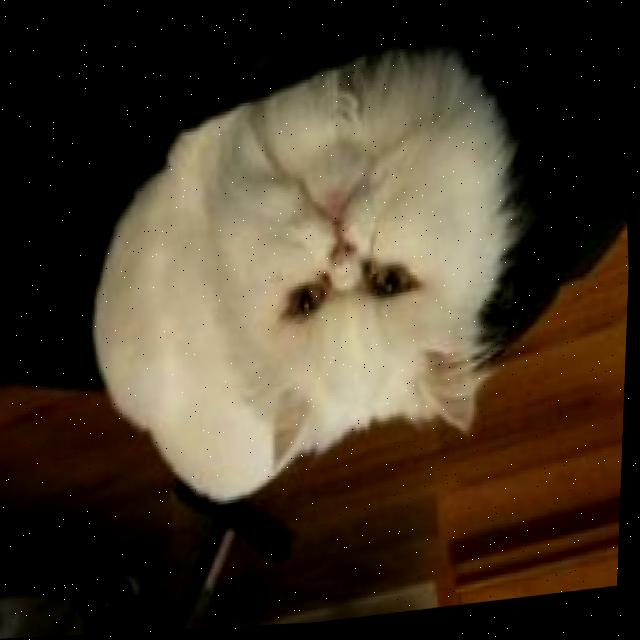Persian: (67, 28, 545, 526)
